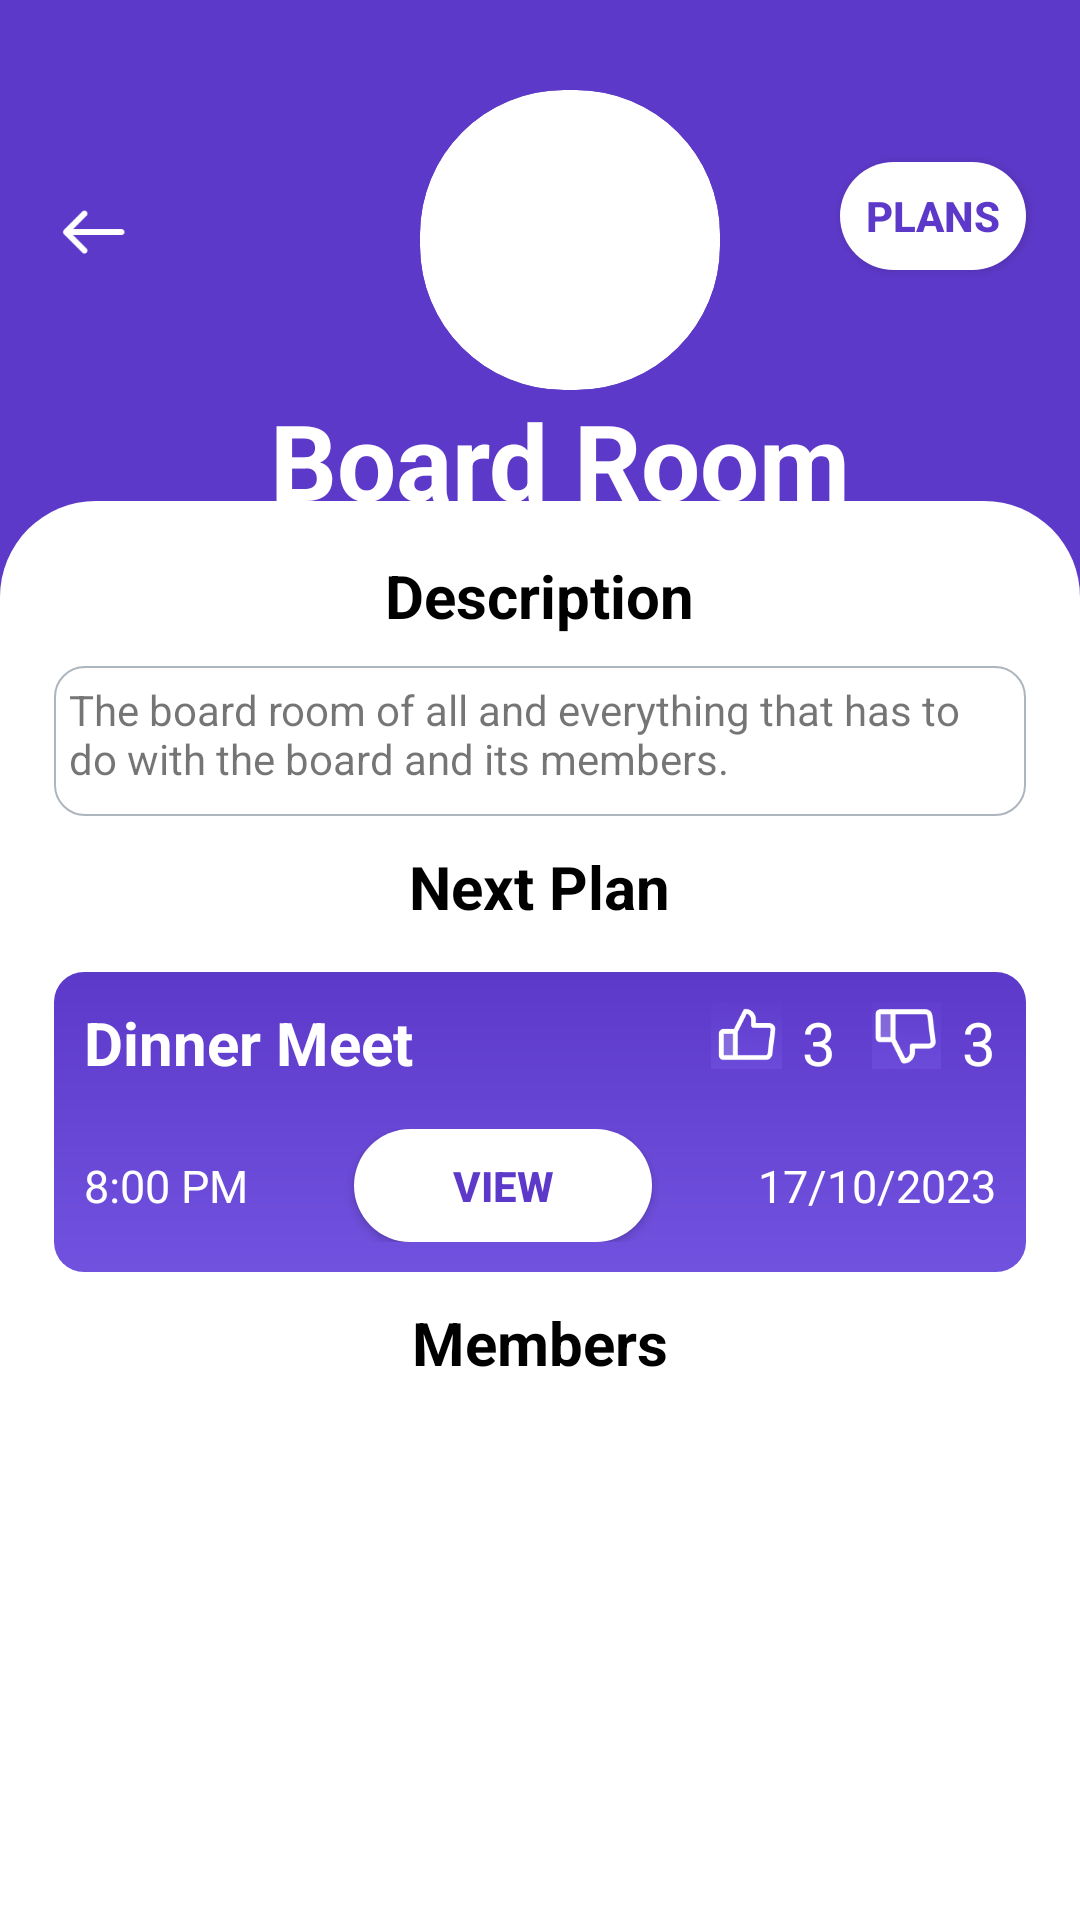

Icon click points for this 1080 x 1920 phone screenshot, format (x=x, y=y):
back arrow: (x=94, y=232)
dislike: (x=906, y=1039)
like: (x=747, y=1034)
